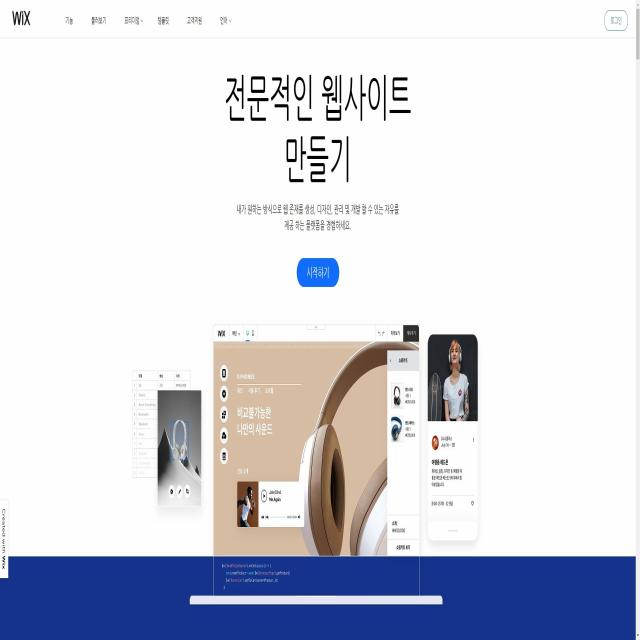button: (297, 257, 340, 288)
select: (122, 12, 144, 30), (219, 11, 233, 30)
